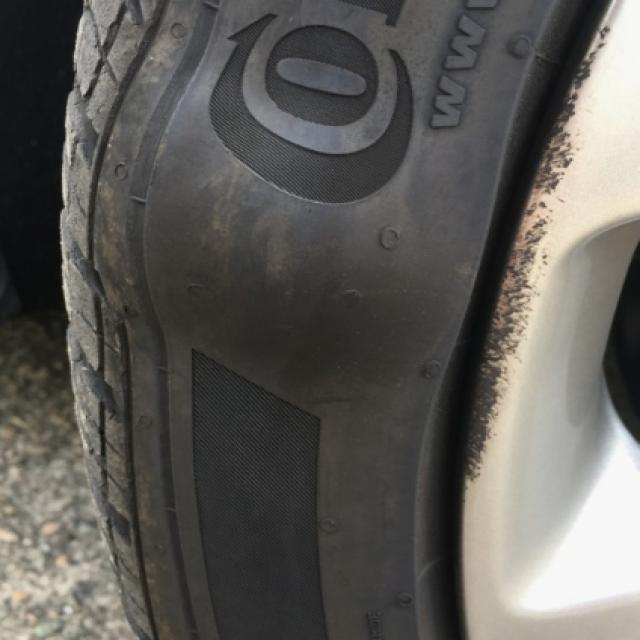Bulge: (82, 38, 479, 396)
